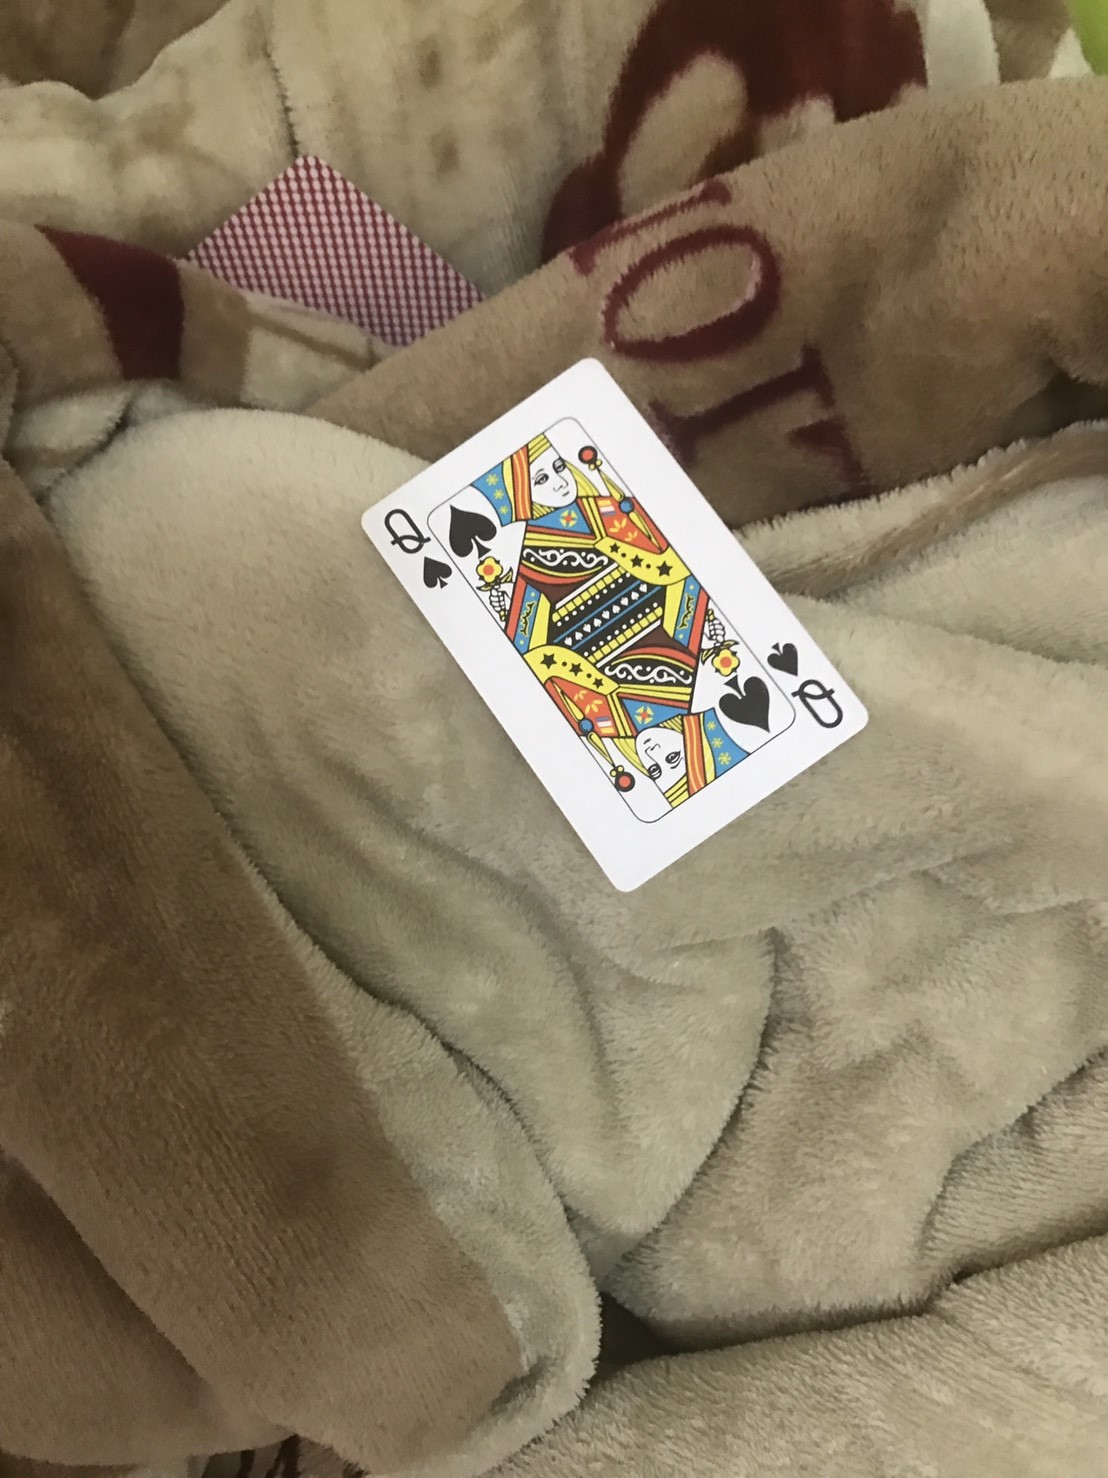spades: (436, 499, 499, 564), (715, 674, 787, 730), (761, 635, 811, 676), (420, 552, 456, 594)
